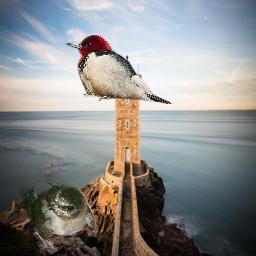Swallow: (14, 179, 97, 253)
Woodpecker: (65, 35, 173, 104)
